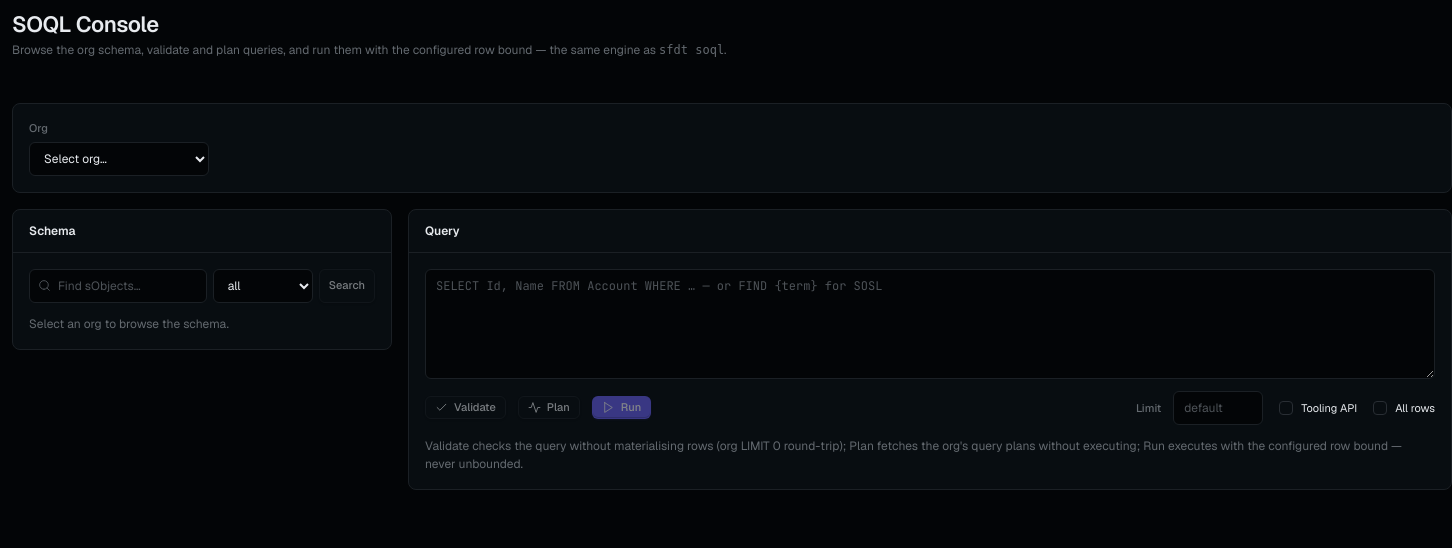
Test case: SoqlConsolePage › fetches query plans
The width and height of the screenshot is (1452, 548).
Replace the text in the text box named "Query editor" with "SELECT Id FROM Account": (930, 324) [425,269,1435,379]
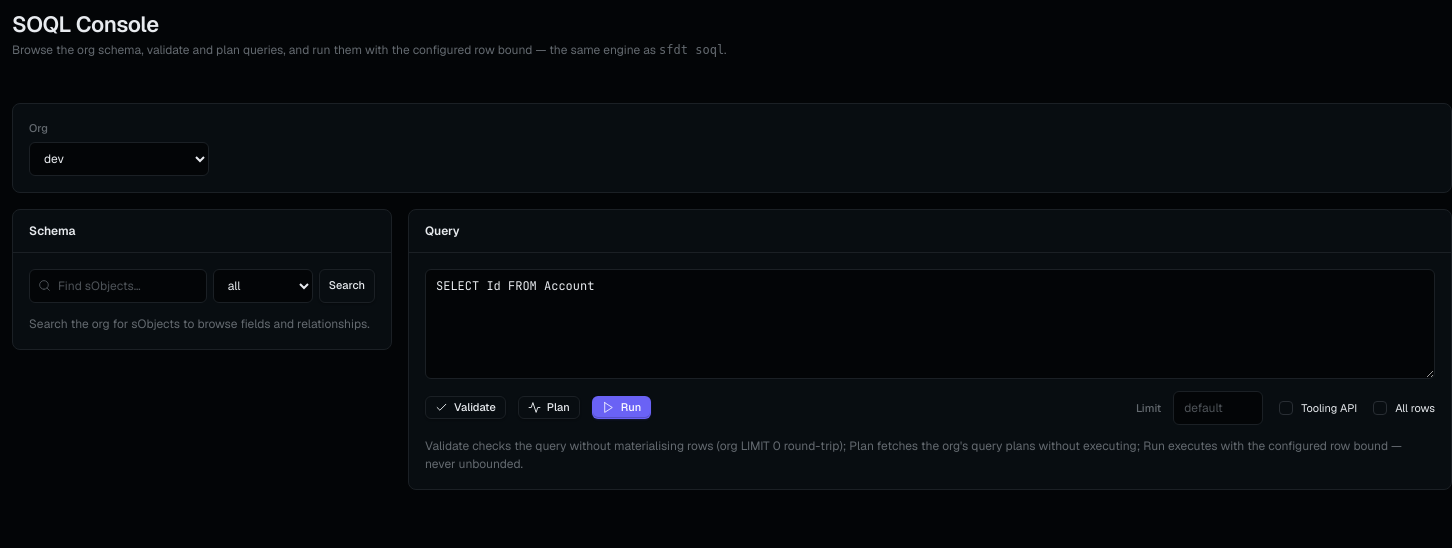
Click the button "Plan": (549, 408) [518,396,580,419]
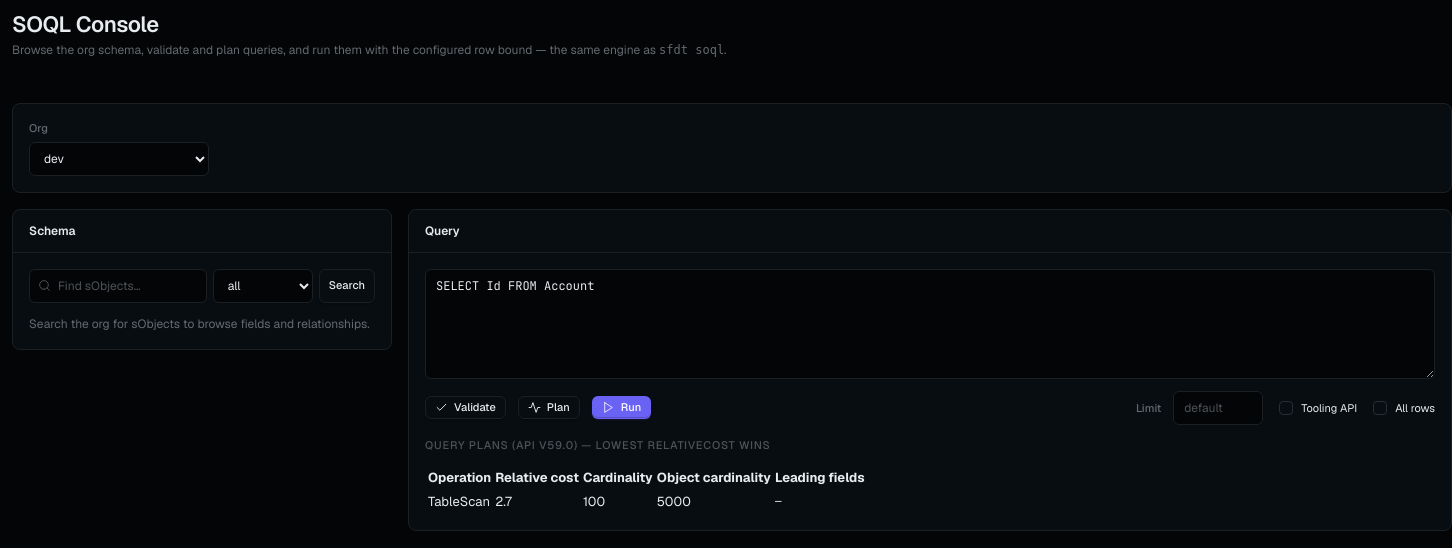
expect the text "TableScan" is shown: met, box [427,491,492,512]
expect the text "2.7" is shown: met, box [494,491,580,512]
